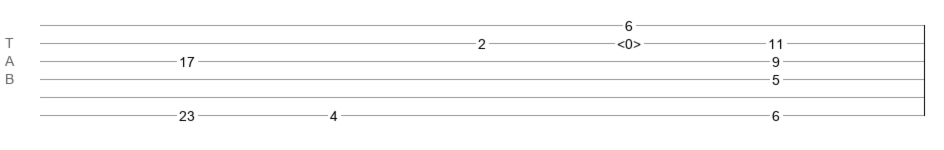11: (768, 36, 784, 46)
17: (179, 54, 195, 64)
2: (478, 36, 486, 46)
23: (179, 108, 195, 118)
4: (330, 108, 338, 118)
5: (772, 72, 780, 82)
6: (625, 18, 633, 28), (772, 108, 780, 118)
9: (772, 54, 780, 64)
harmonic: (617, 36, 641, 46)
